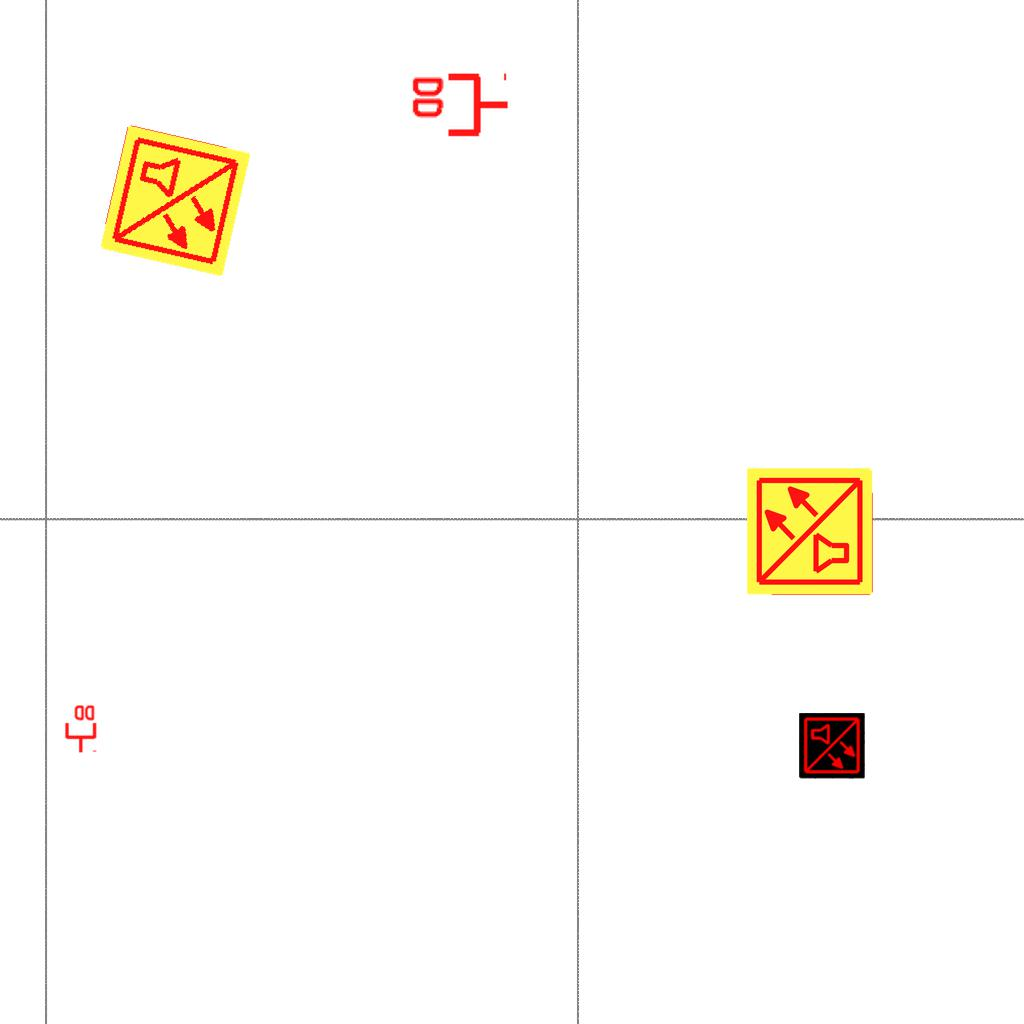Datenanschluss_zweifach: (408, 72, 511, 141), (63, 703, 97, 754)
OKW_Multisensormelder_(Kombination_optischer_Rauch-Kahlenmonoxid_Waerme-Melder): (95, 121, 255, 281), (744, 465, 876, 597), (799, 713, 865, 779)
